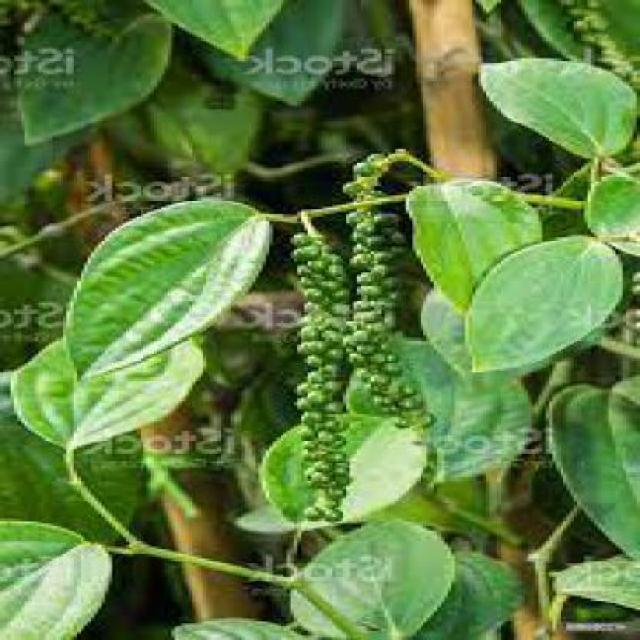UNRIPE: (283, 214, 357, 543), (346, 158, 412, 437)
